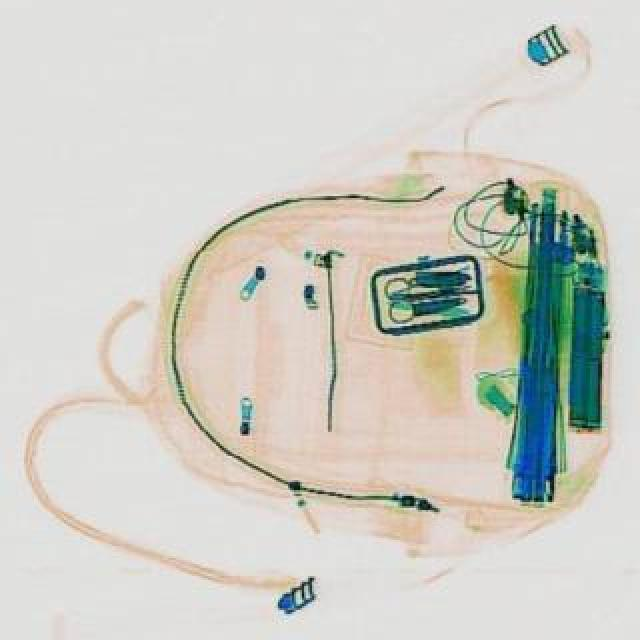pliers: (380, 268, 456, 322)
